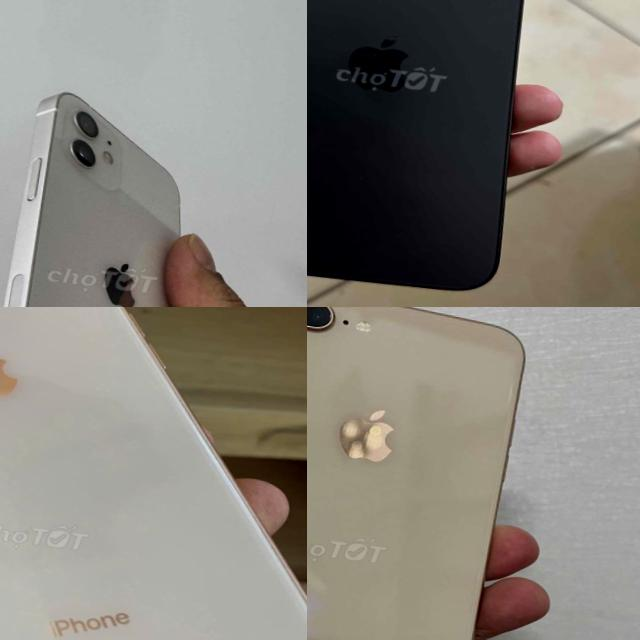gen_12_13: (0, 87, 231, 307)
gen_14: (307, 0, 580, 307)
gen_7_8: (0, 307, 307, 640), (307, 307, 543, 640)
